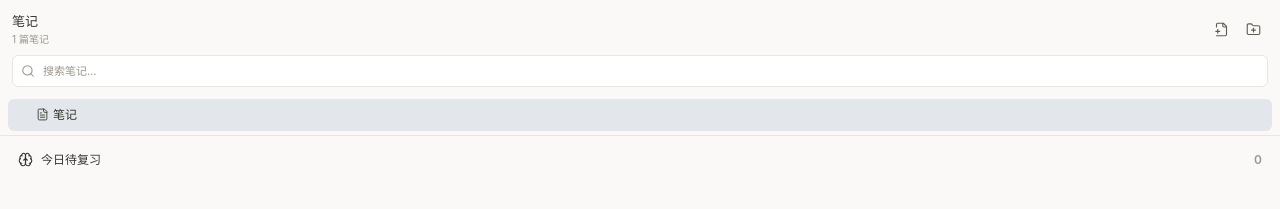
Test: FileTree 右键菜单 › 改名失败保留输入，回车与失焦不会重复提交
This screenshot has width=1280, height=209.
Right-click the button with class "tree-row": (42, 114) [8,98,1272,130]
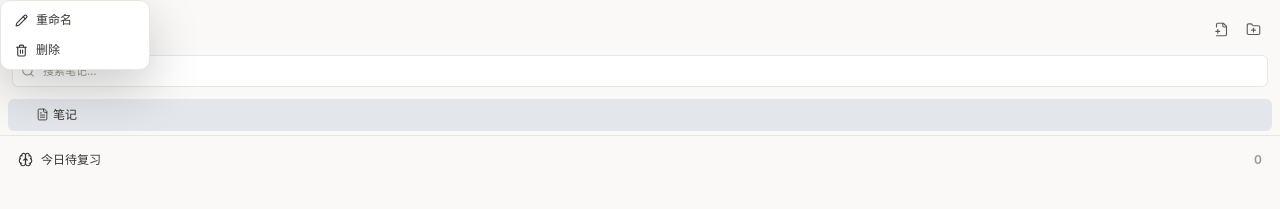
Click the button "重命名": (75, 20) [5,5,145,35]
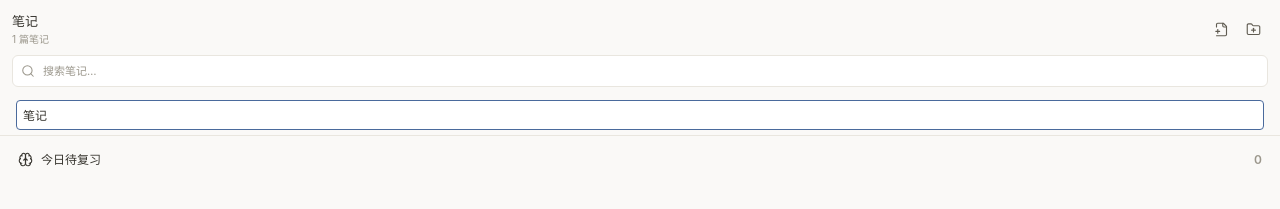
Replace the text in the field with class "tree-input" with "新名称": (640, 114) [16,100,1264,130]
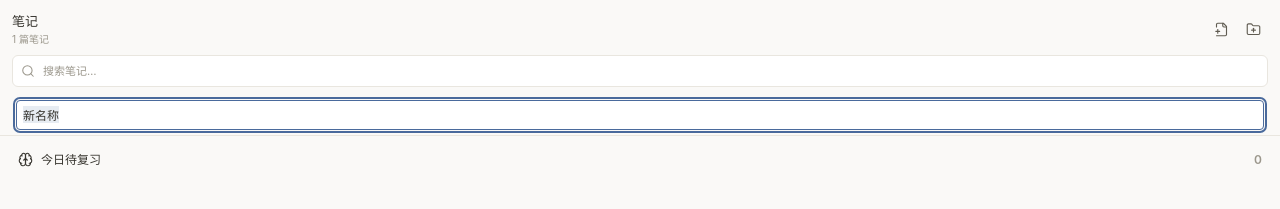
Press Enter in the field with class "tree-input", box [16,100,1264,130]
Leave the field with class "tree-input", box [16,100,1264,130]
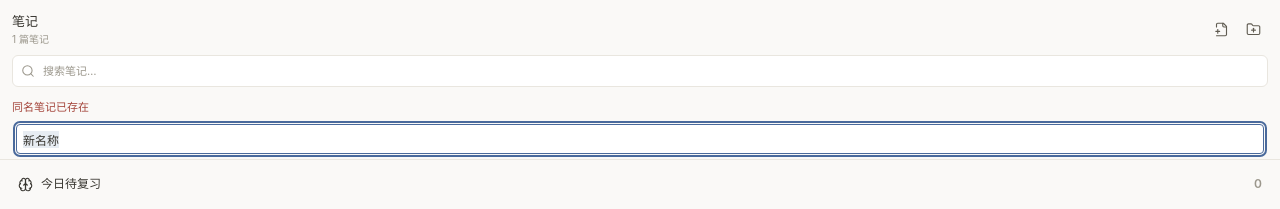
Expected: the text "同名笔记已存在" is shown, [12,100,89,114]
